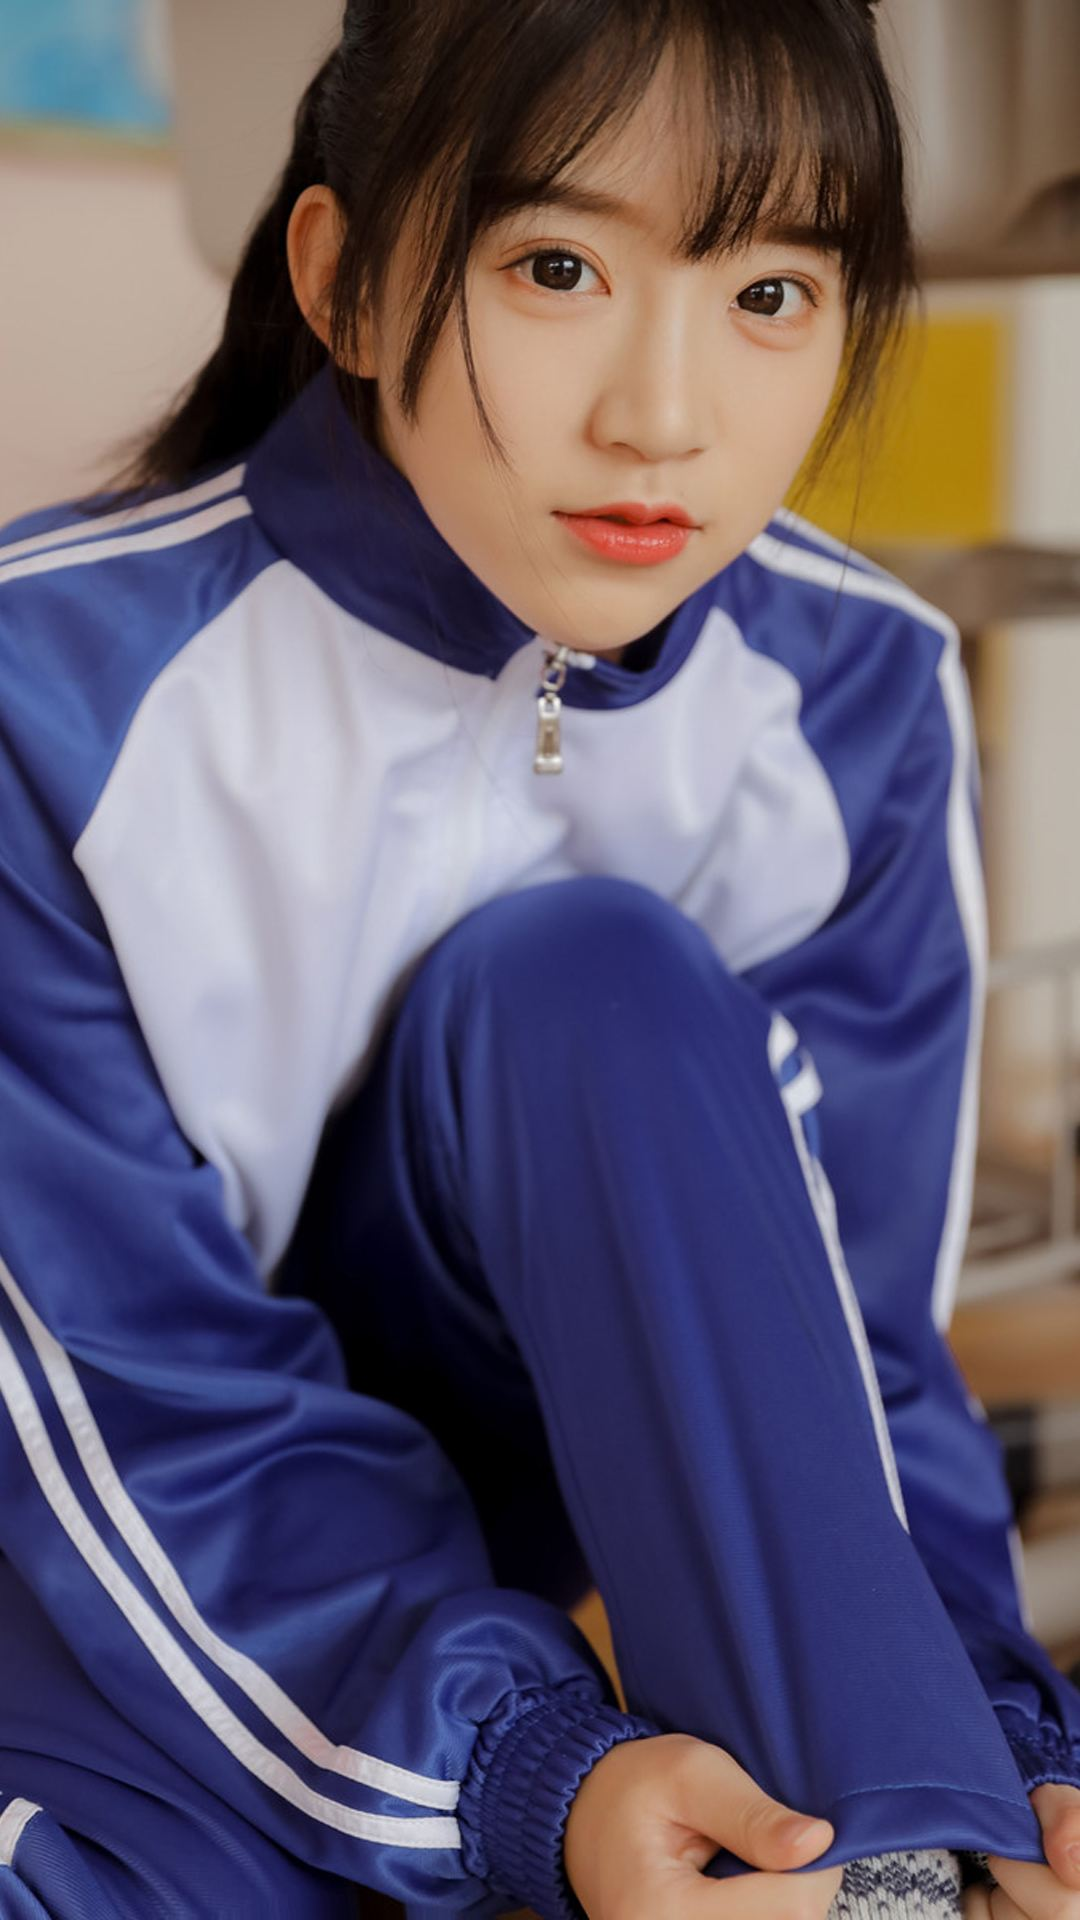person: (198, 4, 926, 1541)
